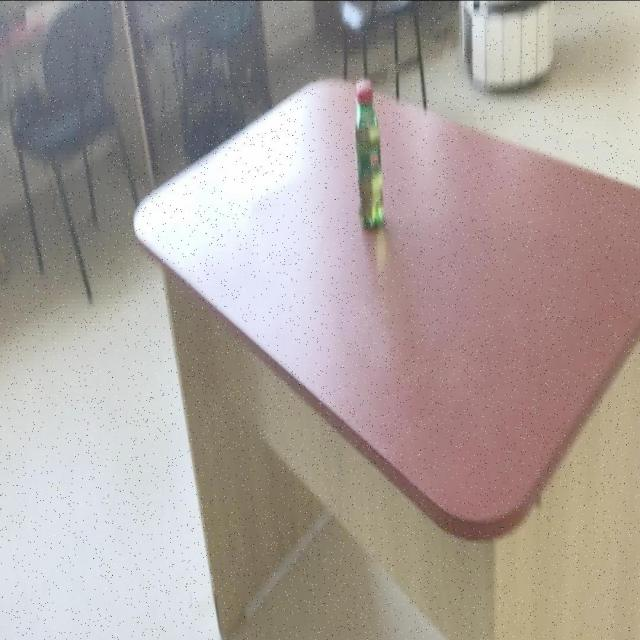Guarana: (131, 75, 640, 545), (352, 79, 384, 234)
